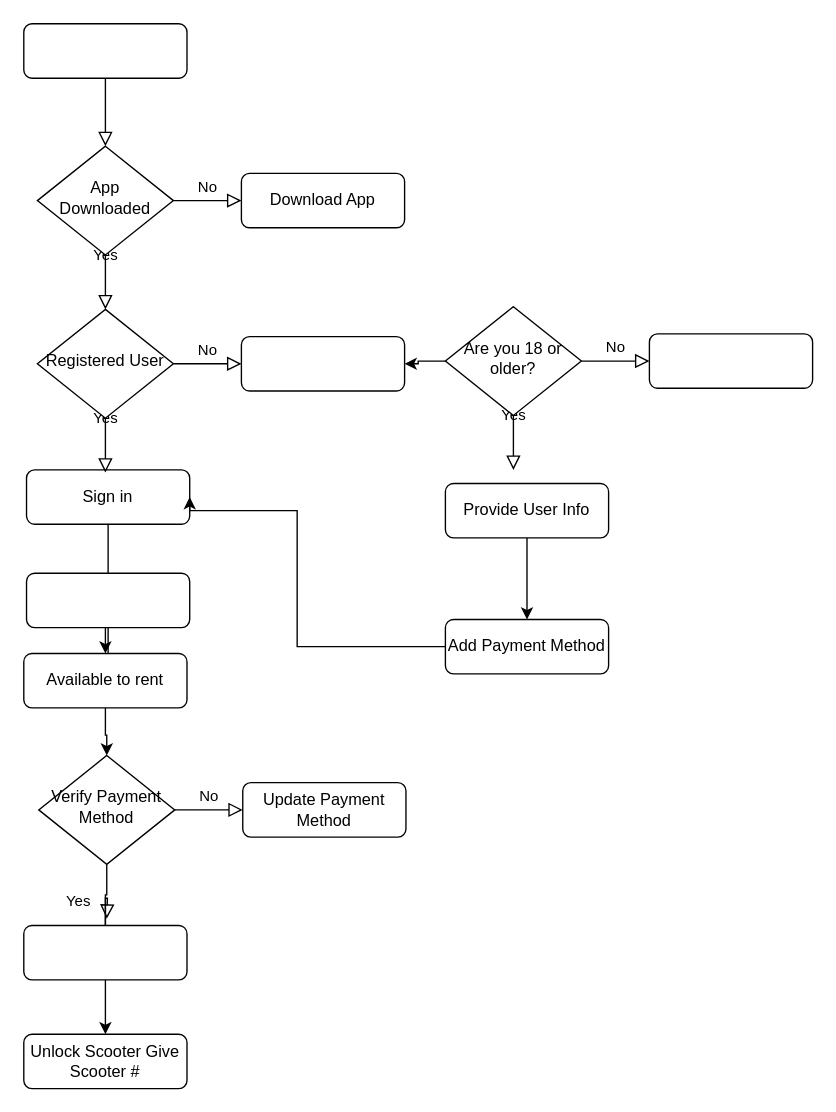
The diagram is 836 pixels wide and 1112 high, and some of its shapes have lost their labels. The shapes that lost their labels are listed below. From the top down, each one's centre as x and y in pixels, then its label:
At point (104, 50): "Rent Scooter?".
At point (322, 363): "Create Acct/Register".
At point (730, 360): "You Can't Register".
At point (107, 600): "Location Id/ Scan QR Code".
At point (104, 952): "Confirm Rental".
